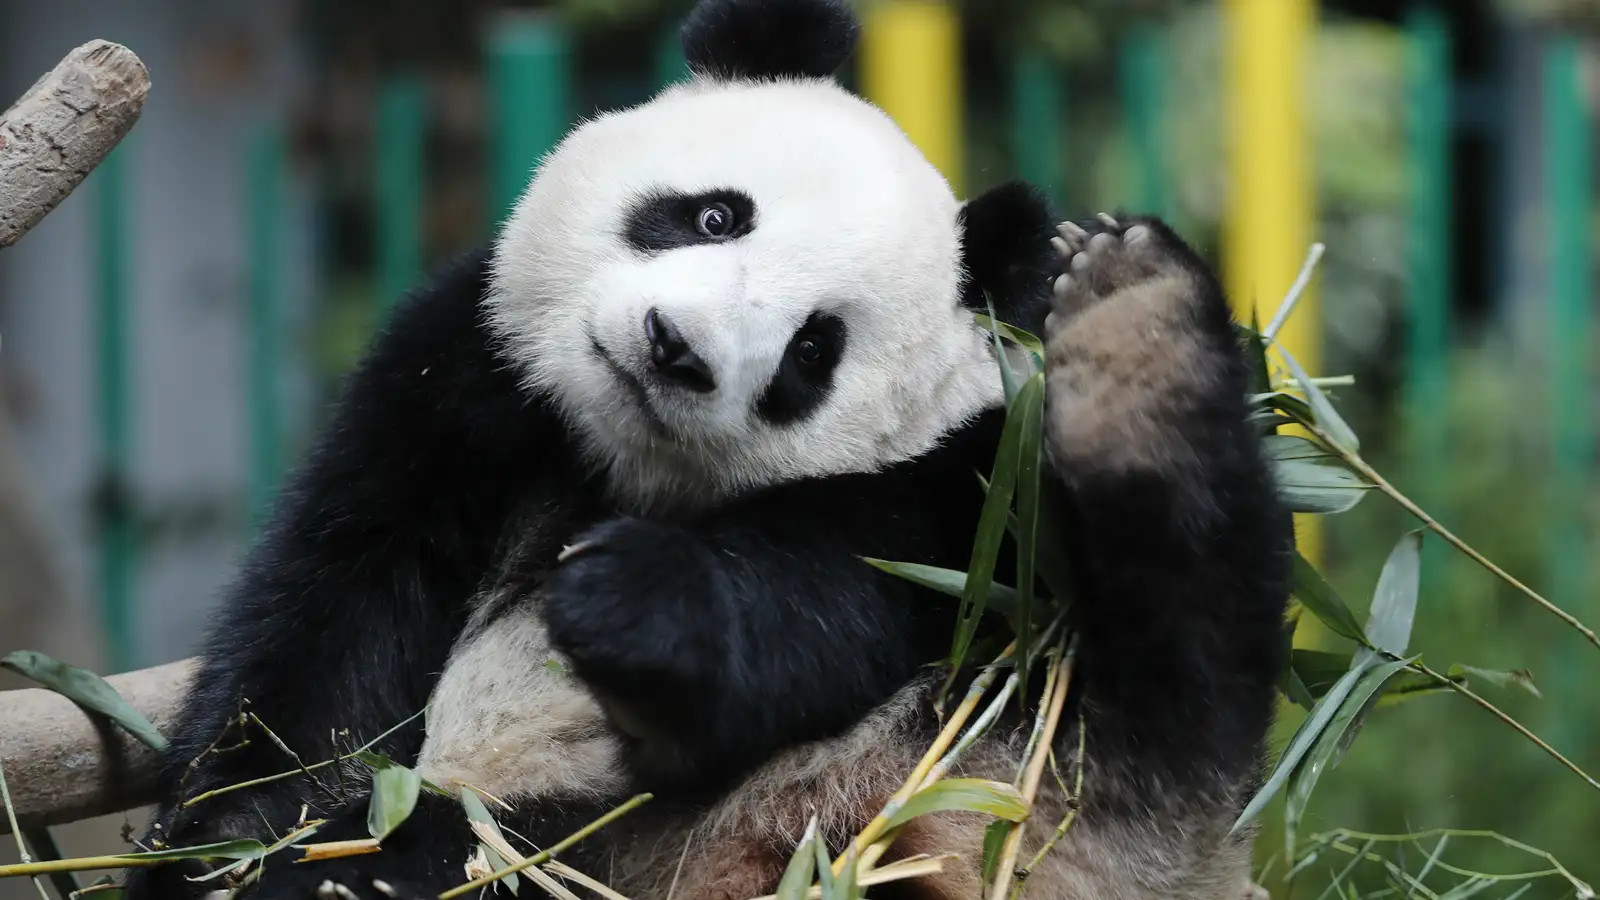Giant panda: (474, 5, 1051, 496)
